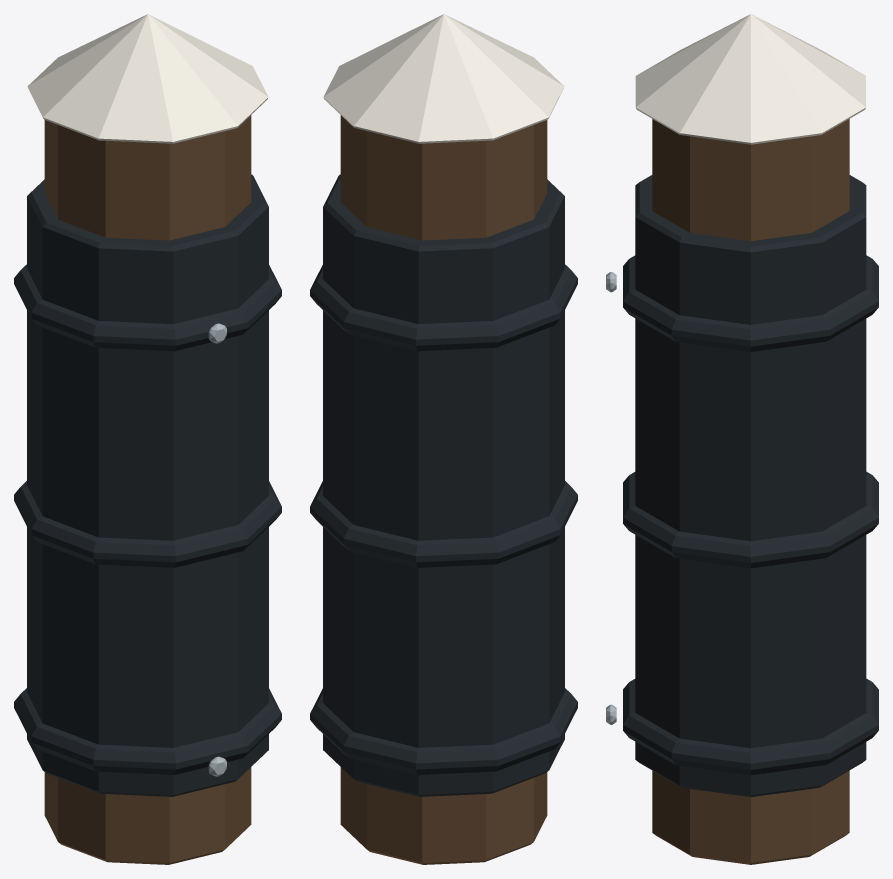
Rendered from b20_dock_piling_protective_sleeve.glb.
3 renders of one model, left to right at view 1: azimuth 30°, elevation 25°; view 2: azimuth 150°, elevation 25°; view 3: azimuth 270°, elevation 25°, orthographic.
Parts seen in each view (by area): view 1: b20_dock_piling_protective_sleeve; view 2: b20_dock_piling_protective_sleeve; view 3: b20_dock_piling_protective_sleeve.
Boxes of the visible parts, x1,y1,x2,y2 form: b20_dock_piling_protective_sleeve: (14,14,281,864); b20_dock_piling_protective_sleeve: (310,14,577,864); b20_dock_piling_protective_sleeve: (606,14,878,864).
Size of the model in its own units: 0.5185 by 1.72 by 0.5256.
